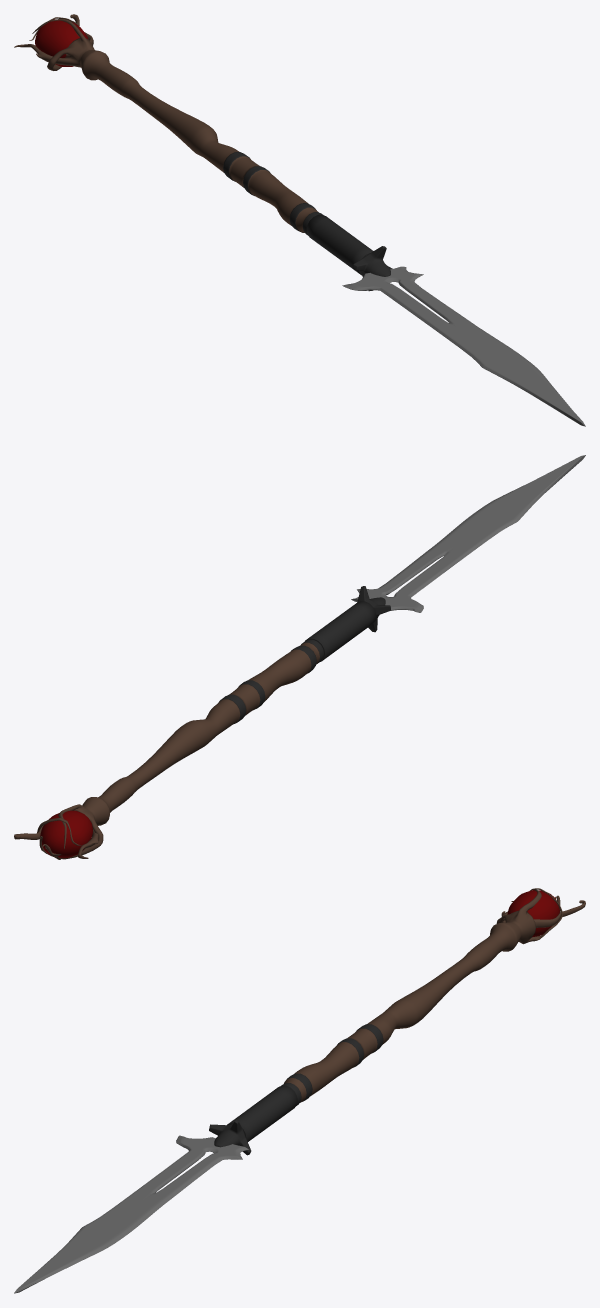
File: Staff.fbx
3 renders of one model, top to bottom at view 1: azimuth 30°, elevation 25°; view 2: azimuth 150°, elevation 25°; view 3: azimuth 330°, elevation 25°, orthographic.
Parts seen in each view (by area): view 1: StaffM; view 2: StaffM; view 3: StaffM.
Boxes of the visible parts, x1,y1,x2,y2 form: StaffM: [14, 14, 585, 426]; StaffM: [14, 455, 585, 859]; StaffM: [14, 888, 585, 1293].
Size of the model in its own units: 24.57 by 14.41 by 317.
